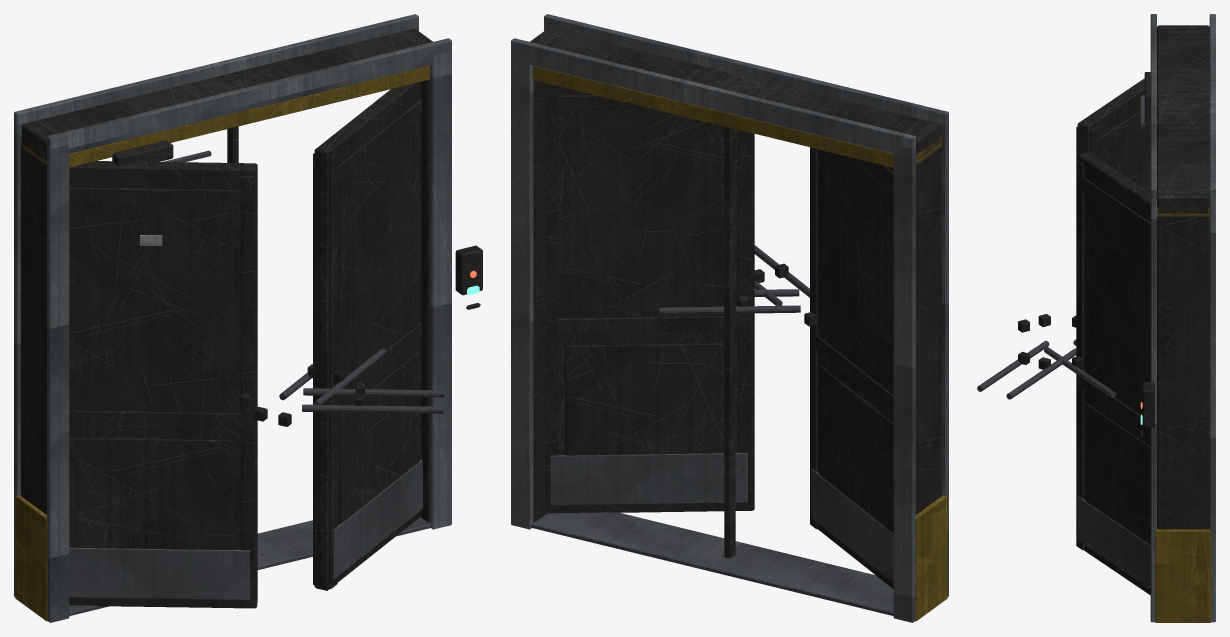
File: door_dbl_card.glb
The picture shows the model from 3 angles, left to right: view 1: azimuth 30°, elevation 25°; view 2: azimuth 150°, elevation 25°; view 3: azimuth 270°, elevation 25°; orthographic projection. The views are drawn at different scales.
Parts seen in each view (by area): view 1: door, frame, door2; view 2: frame, door2, door; view 3: frame, door2, door.
Boxes of the visible parts, bbox=[...] form: door: bbox=[69, 161, 444, 608]; frame: bbox=[14, 14, 482, 622]; door2: bbox=[254, 82, 422, 590]; frame: bbox=[511, 14, 948, 622]; door2: bbox=[545, 83, 800, 513]; door: bbox=[754, 147, 893, 588]; frame: bbox=[1140, 14, 1215, 622]; door2: bbox=[1018, 151, 1150, 595]; door: bbox=[977, 78, 1150, 399].
Bounding box in the file's own units: 2.18 × 2.35 × 1.17.
Materials: 8 (6 with a texture image).
